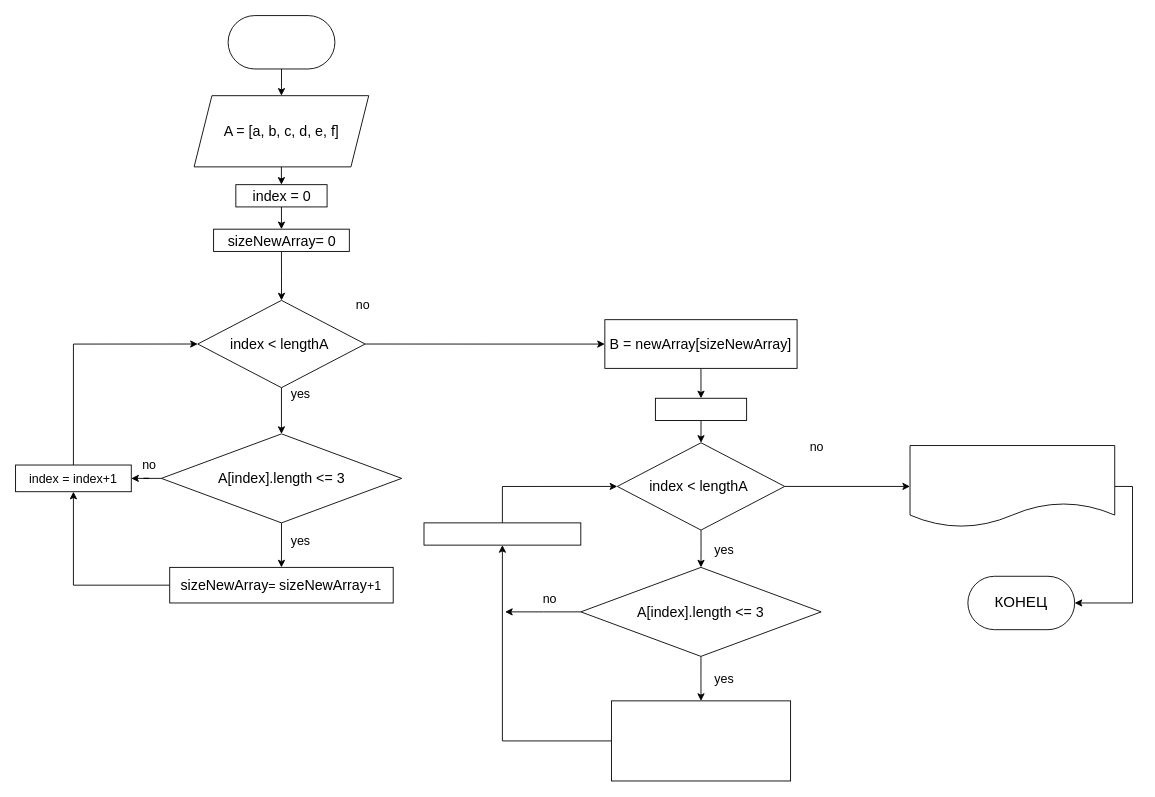
The diagram is 1155 pixels wide and 797 high, and some of its shapes have lost their labels. The shapes that lost their labels are listed below. From the top down, each one's box as (x1, y1, x2, y2) in pixels, then its label:
(227, 15, 335, 69): НАЧАЛО
(655, 397, 747, 421): index2 = 0
(909, 445, 1115, 527): print B = newArray[sizeNewArray]
(423, 522, 581, 545): index2 = index2 + 1
(611, 700, 791, 781): B[index2] = A[index]
